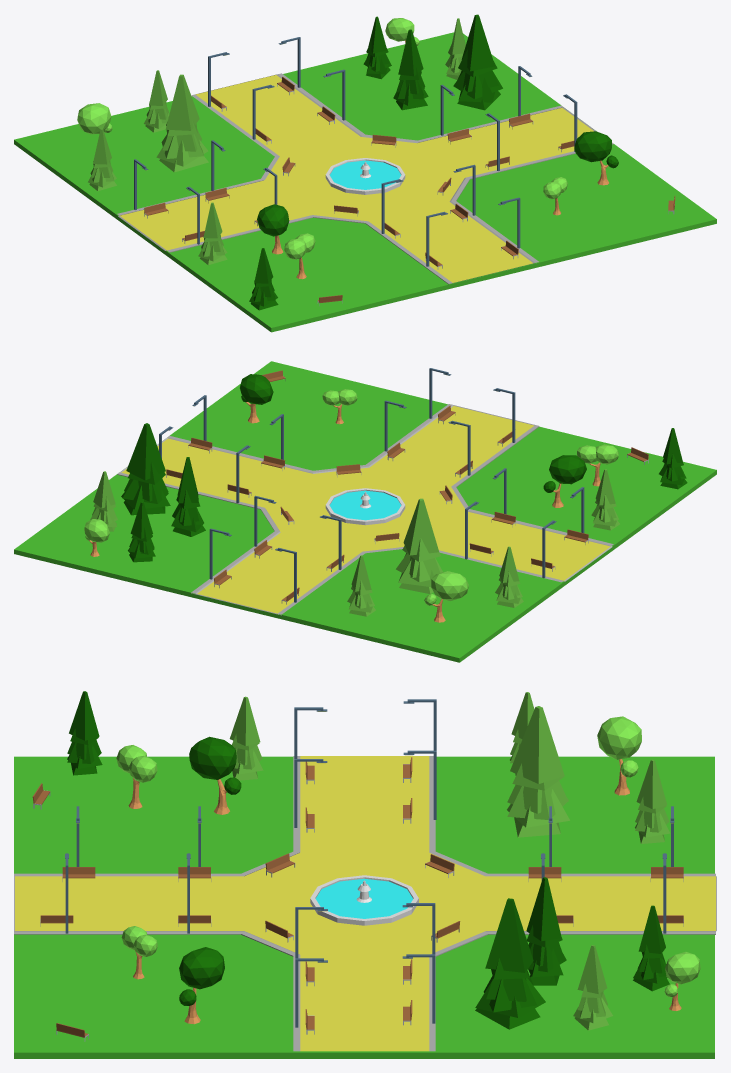
The model's file is Park.fbx.
3 renders of one model, top to bottom at view 1: azimuth 30°, elevation 25°; view 2: azimuth 150°, elevation 25°; view 3: azimuth 270°, elevation 25°, orthographic. The views are drawn at different scales.
Visible parts, largest first — view 1: park_ground, Cylinder.001, tree_house_H.009, tree_house_H.005, Cylinder, tree_house_H.007, tree.005, tree_house_H.001, tree_house_H.008, tree_house_H.002, tree_house_H.004, tree_house_H.006 (+5 smaller); view 2: park_ground, Cylinder.001, tree_house_H.005, tree_house_H.009, Cylinder, tree_house_H.007, tree.002, tree.001, tree_house_H.004, tree_house_H.002, tree_house_H.008, tree_house_H.006 (+6 smaller); view 3: park_ground, Cylinder.001, tree_house_H.009, tree_house_H.005, Cylinder, tree_house_H.007, tree.001, tree.002, tree.005, tree_house_H.002, tree_house_H.006, tree_house_H.003 (+6 smaller).
Part boxes in pixels (left/top/right/bottom): park_ground: left=14, top=32, right=716, bottom=332; Cylinder.001: left=117, top=73, right=613, bottom=284; tree_house_H.009: left=156, top=74, right=208, bottom=172; tree_house_H.005: left=453, top=14, right=502, bottom=110; Cylinder: left=325, top=158, right=405, bottom=194; tree_house_H.007: left=393, top=29, right=428, bottom=110; tree.005: left=574, top=131, right=618, bottom=185; tree_house_H.001: left=198, top=202, right=227, bottom=265; tree_house_H.008: left=88, top=128, right=116, bottom=190; tree_house_H.002: left=249, top=248, right=278, bottom=310; tree_house_H.004: left=363, top=16, right=391, bottom=79; tree_house_H.006: left=144, top=70, right=169, bottom=132; park_ground: left=14, top=361, right=716, bottom=662; Cylinder.001: left=117, top=404, right=613, bottom=615; tree_house_H.005: left=121, top=423, right=170, bottom=515; tree_house_H.009: left=396, top=498, right=442, bottom=594; Cylinder: left=325, top=488, right=405, bottom=525; tree_house_H.007: left=171, top=457, right=205, bottom=536; tree.002: left=424, top=571, right=468, bottom=622; tree.001: left=543, top=455, right=586, bottom=507; tree_house_H.004: left=128, top=501, right=155, bottom=562; tree_house_H.002: left=659, top=428, right=687, bottom=489; tree_house_H.008: left=495, top=546, right=523, bottom=607; tree_house_H.006: left=347, top=555, right=375, bottom=616; park_ground: left=14, top=756, right=714, bottom=1058; Cylinder.001: left=14, top=756, right=716, bottom=1051; tree_house_H.009: left=507, top=706, right=569, bottom=837; tree_house_H.005: left=475, top=898, right=545, bottom=1029; Cylinder: left=310, top=875, right=418, bottom=925; tree_house_H.007: left=526, top=877, right=566, bottom=985; tree.001: left=189, top=736, right=241, bottom=814; tree.002: left=597, top=716, right=641, bottom=795; tree.005: left=179, top=947, right=224, bottom=1024; tree_house_H.002: left=67, top=691, right=102, bottom=775; tree_house_H.006: left=635, top=759, right=670, bottom=843; tree_house_H.003: left=573, top=945, right=612, bottom=1030.
Bounding box in the file's own units: 52.09 × 52.14 × 10.14.
